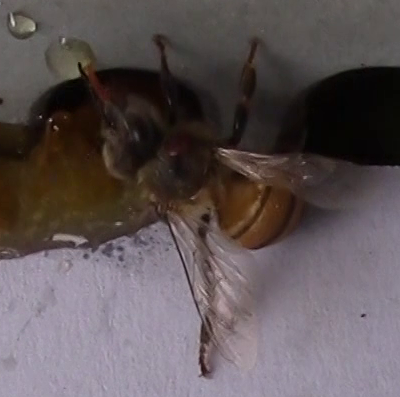Varroa destructor: (162, 132, 195, 157)
